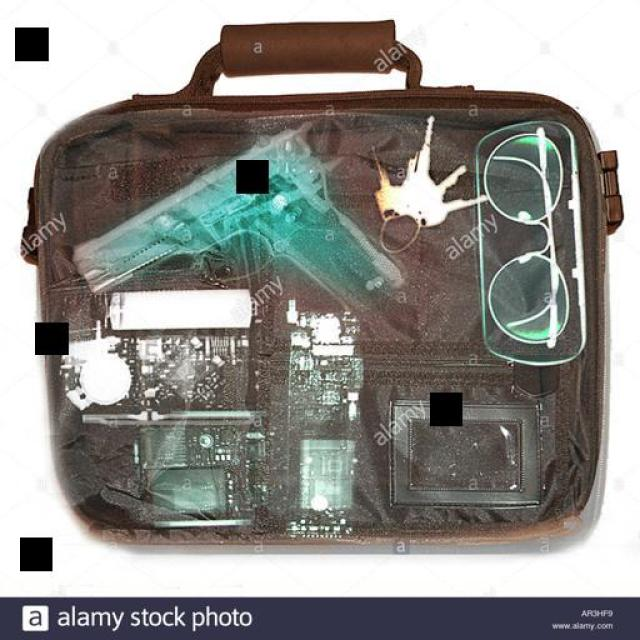gun: (70, 120, 412, 311)
